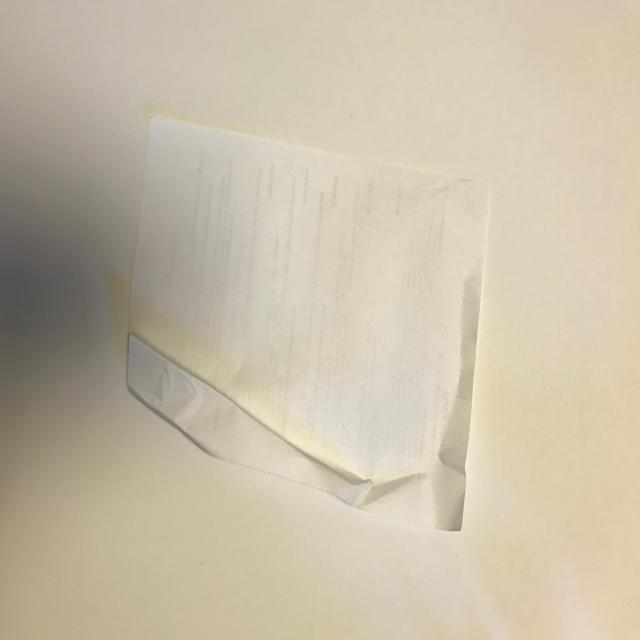paper: (106, 100, 500, 563)
